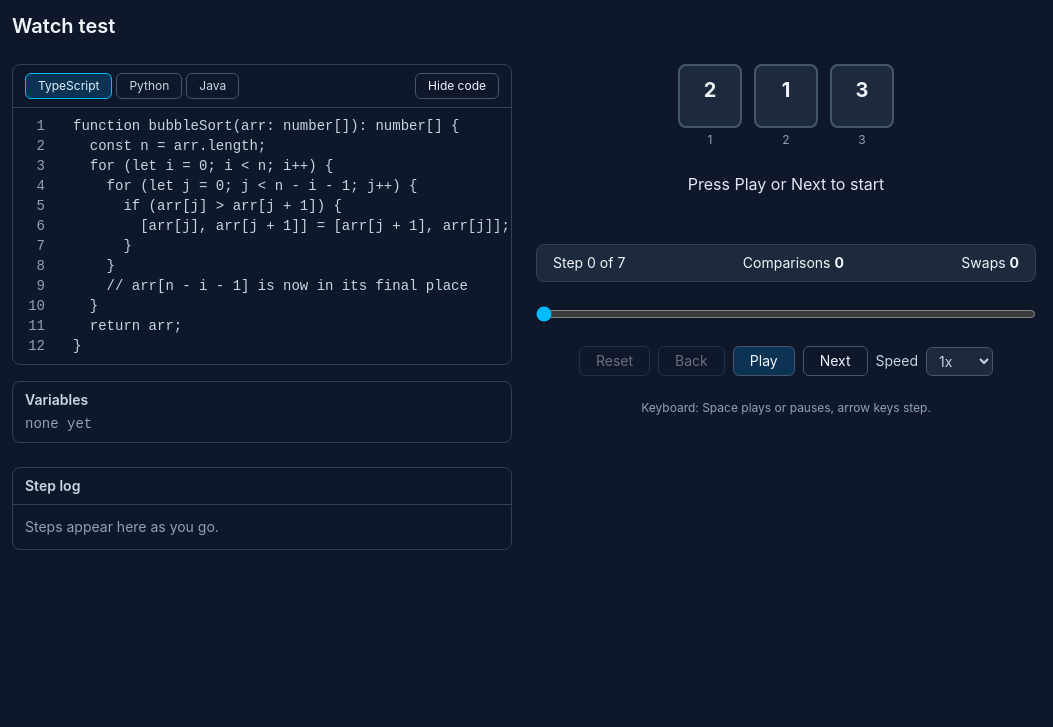
Scenario: WatchScreen › the timeline slider jumps to a step
Set the slider named "Timeline" to "7" at coordinates (1028, 314), box [536,306,1036,322]
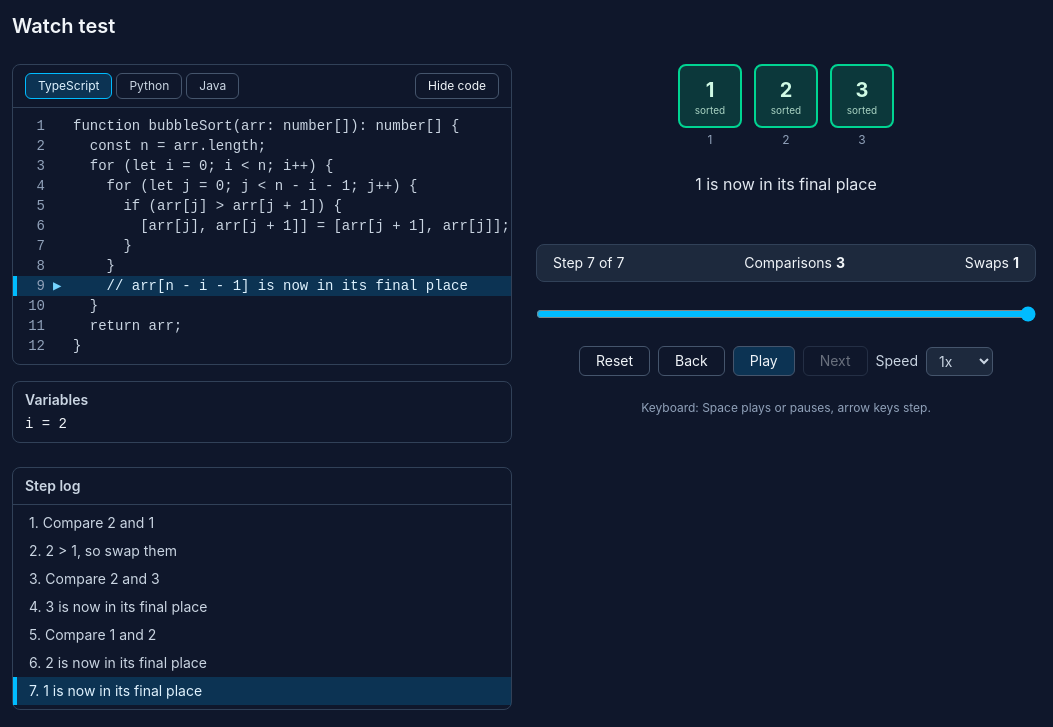
Result: the text "Step 7 of 7" is shown at [553,253,624,273]
Result: the list item with aria-label "Box 1: 1, sorted" is shown at [678,64,742,148]
Result: the button "Next" is disabled at [803,346,868,376]
